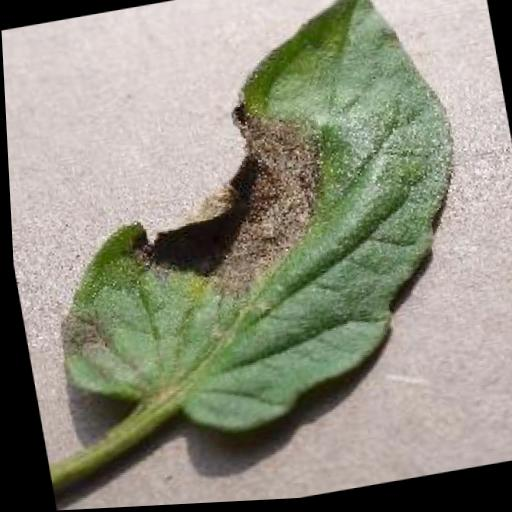Late Blight: (8, 0, 497, 461)
